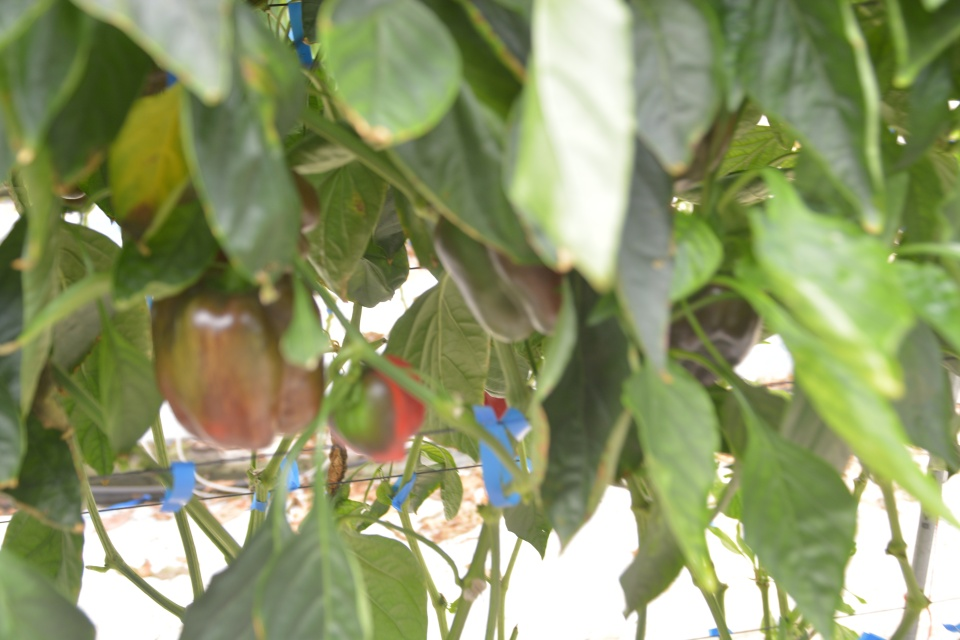fruit: (148, 252, 326, 452), (431, 210, 564, 343), (325, 352, 427, 464), (664, 270, 759, 388)
pedicle: (214, 265, 248, 292)
